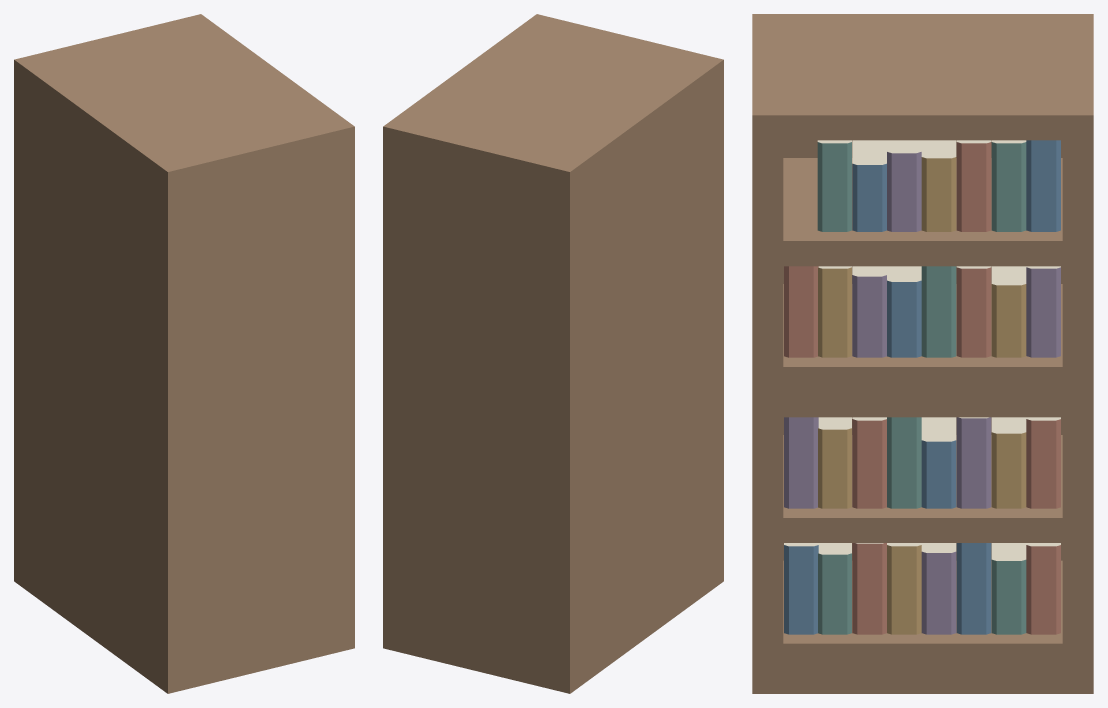
File: Bookcase.fbx
3 views of the same model, side by side, from view 1: azimuth 30°, elevation 25°; view 2: azimuth 150°, elevation 25°; view 3: azimuth 270°, elevation 25° (orthographic). The views are drawn at different scales.
Parts seen in each view (by area): view 1: Oak Frame; view 2: Oak Frame; view 3: Oak Frame, Cloth Book 11, Cloth Book 12, Cloth Book 13, Cloth Book 06, Cloth Book 08, Cloth Book 18, Cloth Book 19, Cloth Book 20, Cloth Book 07, Cloth Book 29, Cloth Book 30 (+20 smaller).
Boxes of the visible parts, x1,y1,x2,y2 form: Oak Frame: [14, 14, 354, 693]; Oak Frame: [383, 14, 723, 693]; Oak Frame: [752, 14, 1093, 693]; Cloth Book 11: [991, 140, 1026, 231]; Cloth Book 12: [956, 140, 991, 231]; Cloth Book 13: [921, 140, 956, 231]; Cloth Book 06: [921, 266, 956, 357]; Cloth Book 08: [991, 266, 1026, 357]; Cloth Book 18: [991, 417, 1026, 508]; Cloth Book 19: [956, 417, 991, 508]; Cloth Book 20: [921, 417, 956, 508]; Cloth Book 07: [956, 266, 991, 357]; Cloth Book 29: [921, 543, 956, 634]; Cloth Book 30: [956, 543, 991, 634].
Size of the model in its own units: 59.25 by 158 by 84.38.
